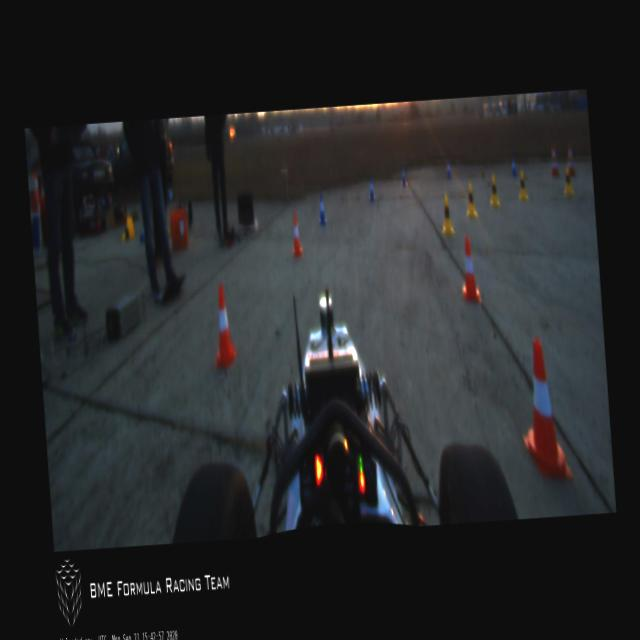blue_cone: (316, 193, 326, 224), (368, 176, 374, 201), (400, 164, 406, 186), (510, 155, 516, 177), (445, 159, 451, 179)
large_orange_cone: (566, 142, 576, 176), (549, 144, 559, 176)
orange_cone: (517, 336, 573, 482), (208, 282, 238, 370), (458, 233, 480, 303), (288, 210, 304, 258)
yellow_cone: (463, 181, 478, 219), (440, 194, 454, 233), (516, 167, 528, 200), (120, 213, 134, 240), (562, 165, 574, 196), (489, 174, 500, 207)
